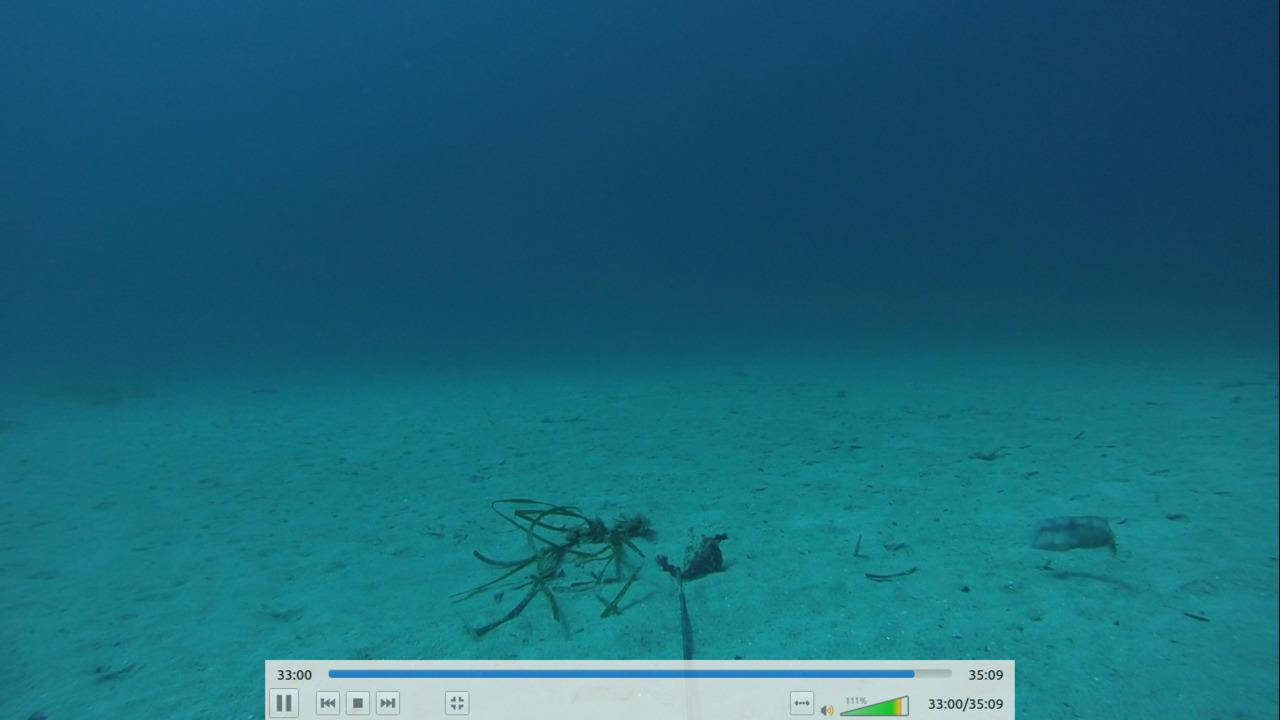raor: (1021, 510, 1126, 558)
